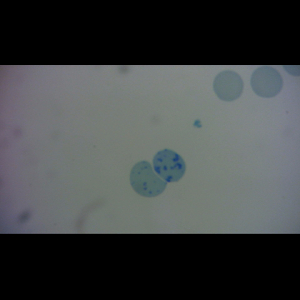aggregate reticulocyte: (152, 149, 188, 184)
erythrocyte: (249, 65, 285, 99), (212, 69, 246, 103)
punctate reticulocyte: (128, 160, 169, 198)
